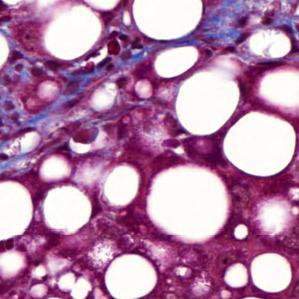steatosis: (222, 112, 296, 178), (134, 0, 203, 42), (105, 252, 159, 299), (251, 252, 292, 294)
